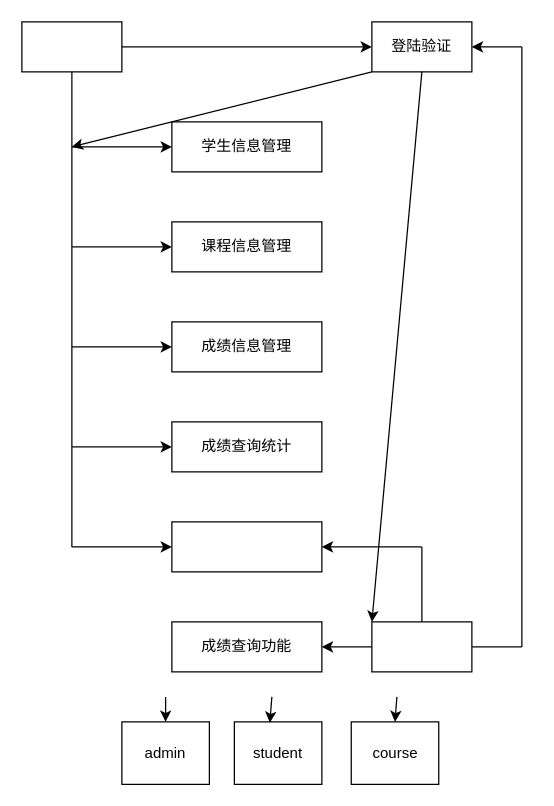
Some shapes in this 554 by 806 pixel diagram are drawn without their labels. Each missing label, with the box of its shape:
学生: (371, 621, 472, 672)
密码修改管理: (171, 521, 322, 572)
管理员: (21, 21, 122, 72)
